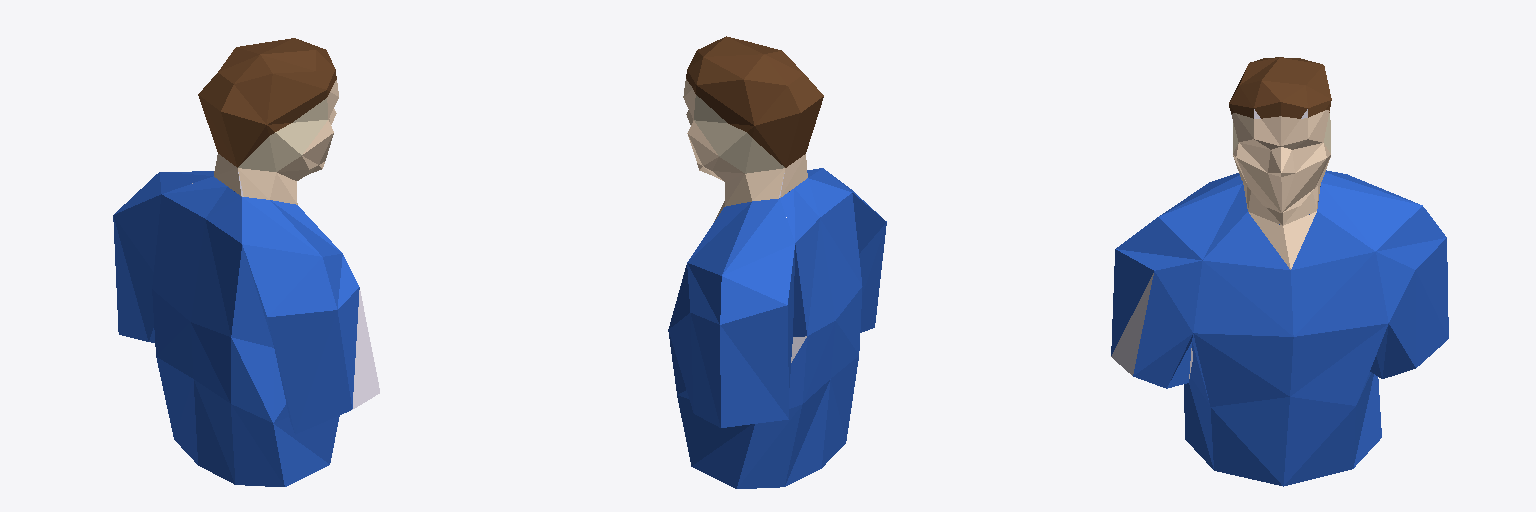
Rendered from avatar.obj.
3 views of the same model, side by side, from view 1: azimuth 30°, elevation 25°; view 2: azimuth 150°, elevation 25°; view 3: azimuth 270°, elevation 25° (orthographic).
Visible parts, largest first — view 1: Mesh1 skp153C1 Model; view 2: Mesh1 skp153C1 Model; view 3: Mesh1 skp153C1 Model.
Boxes of the visible parts, x1=… form: Mesh1 skp153C1 Model: x1=113, y1=38, x2=379, y2=486; Mesh1 skp153C1 Model: x1=668, y1=36, x2=886, y2=488; Mesh1 skp153C1 Model: x1=1111, y1=57, x2=1448, y2=486.
Bounding box in the file's own units: 0.3189 × 0.7528 × 0.5743.